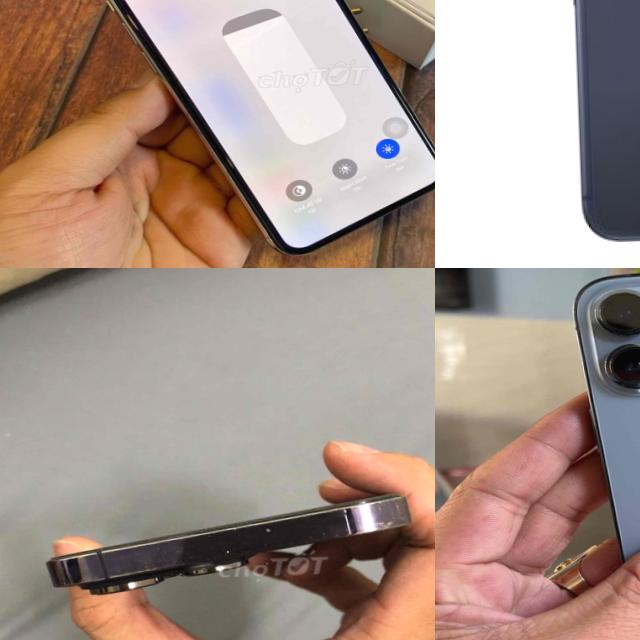scratch: (31, 491, 422, 602), (116, 518, 263, 543), (76, 556, 185, 586), (332, 512, 425, 539), (215, 542, 247, 560), (259, 523, 295, 538)
